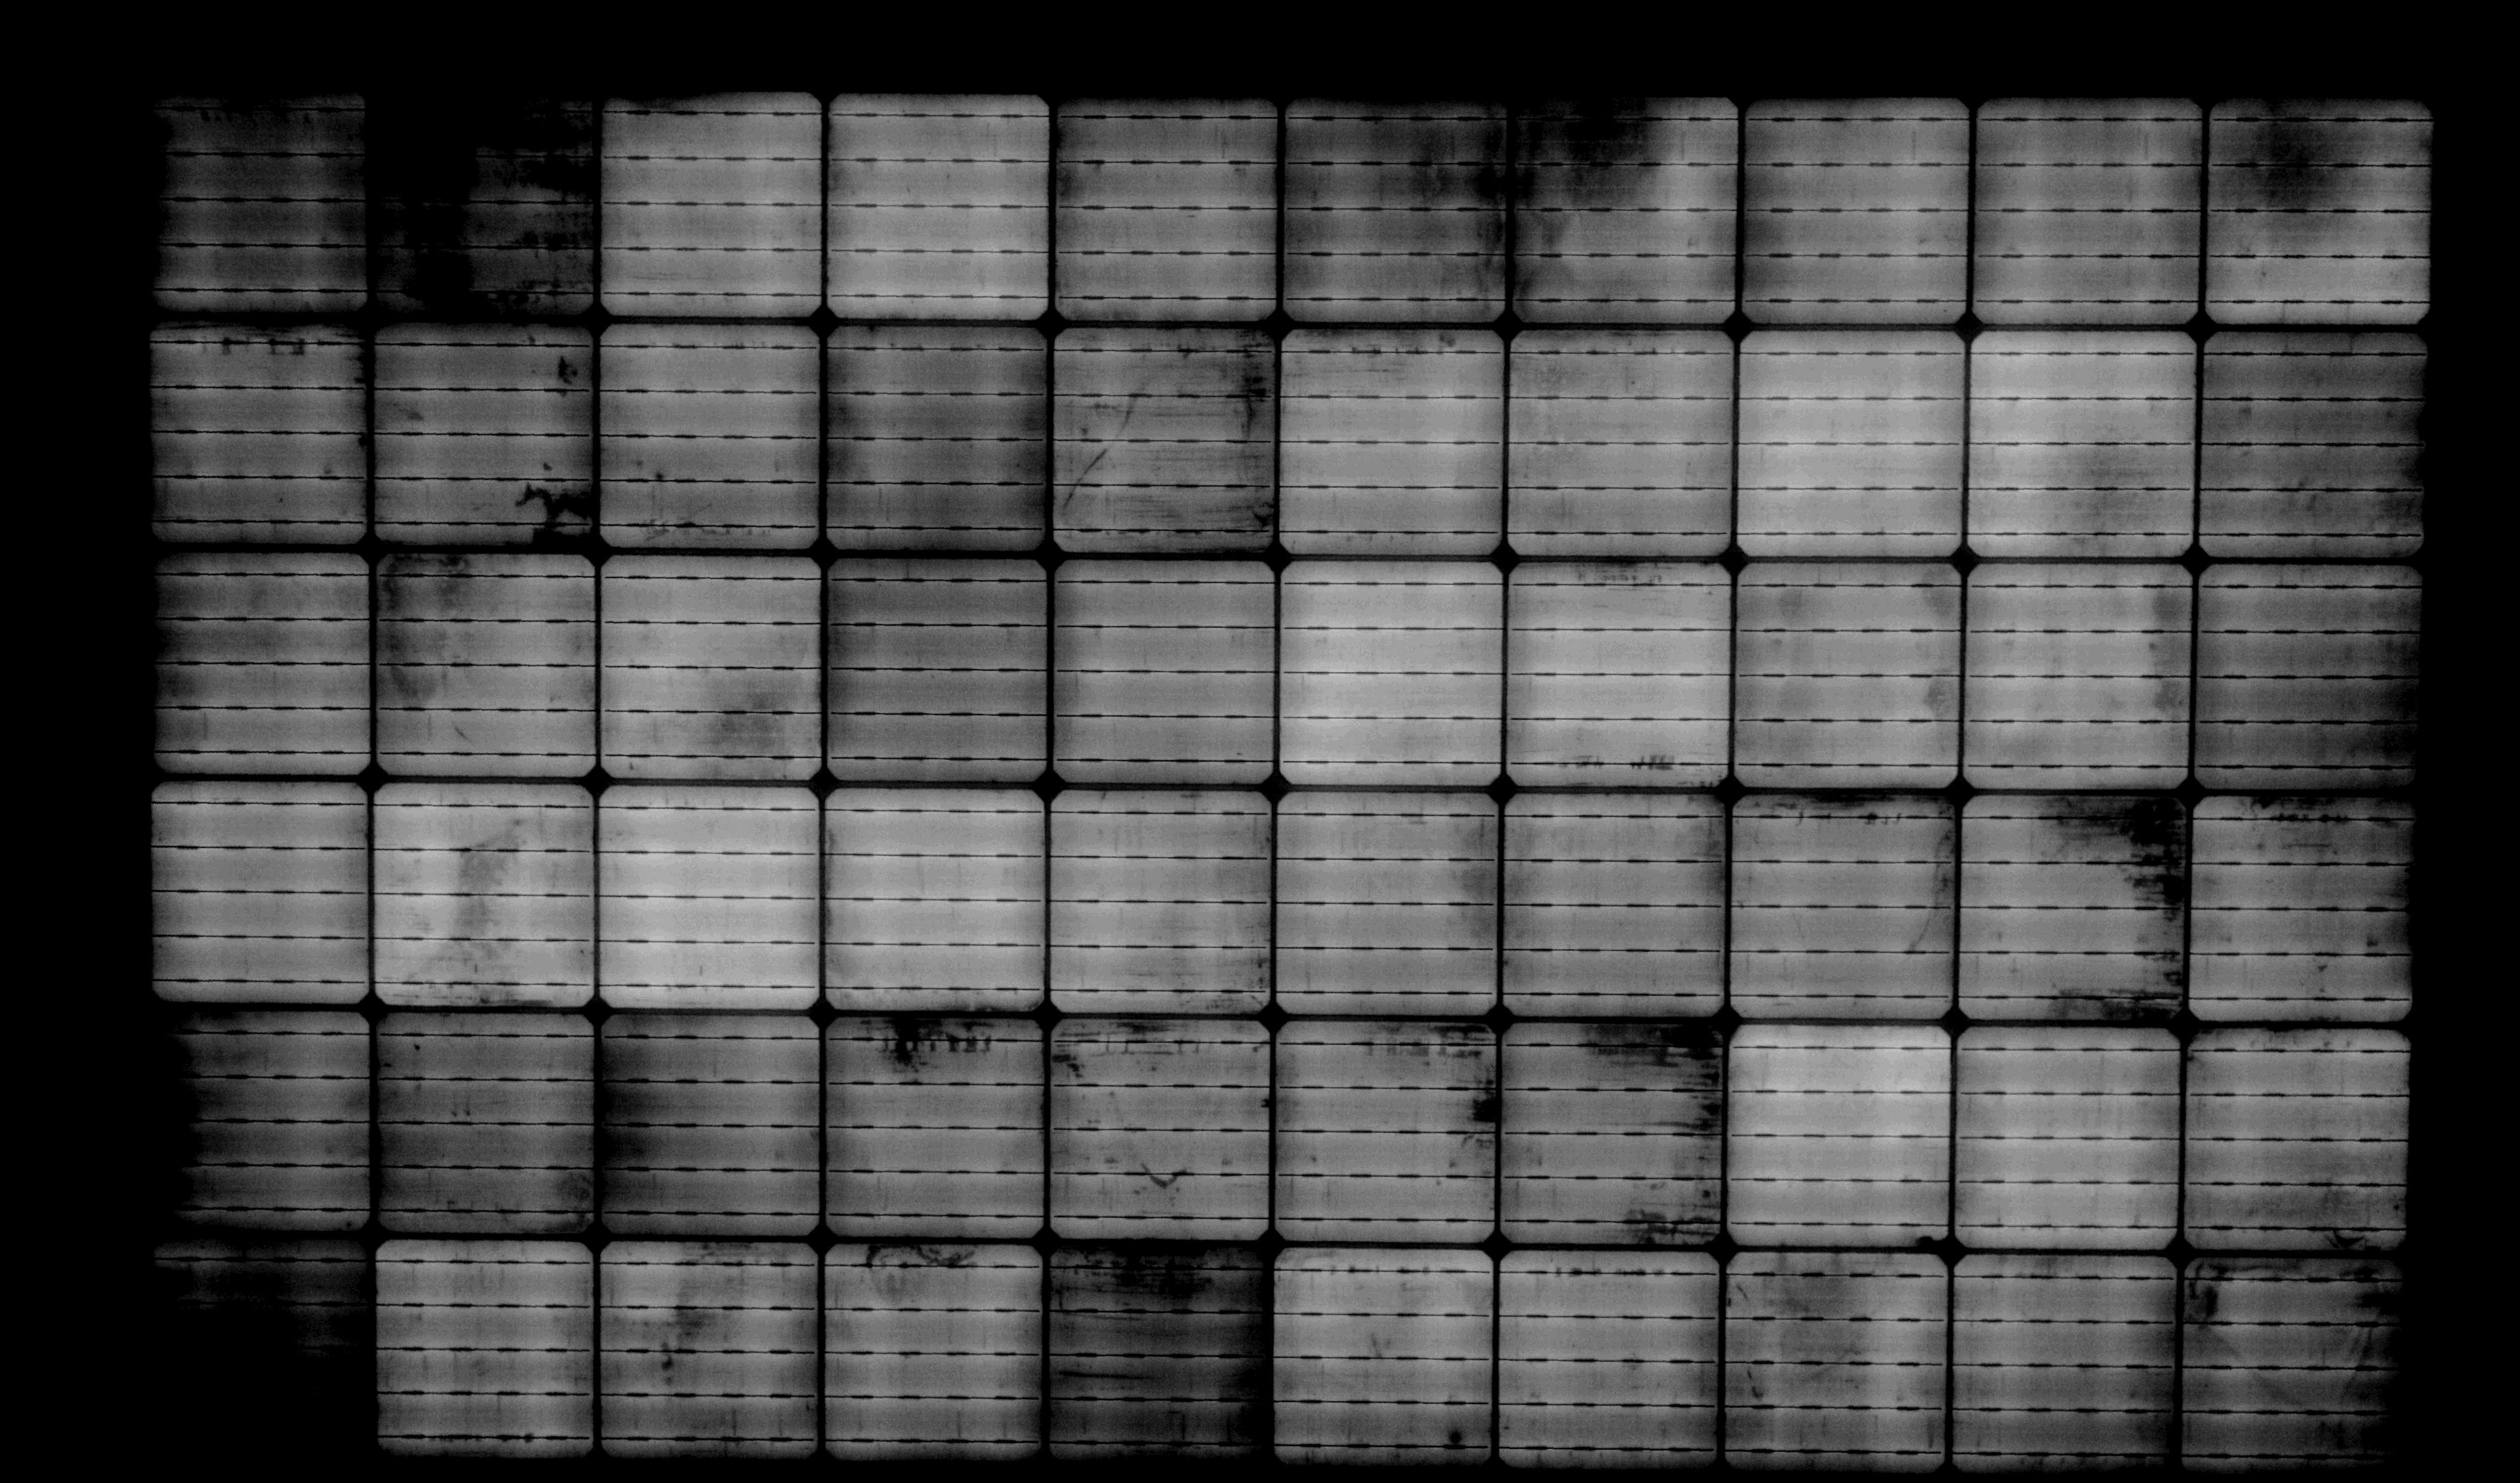5,9: (131, 76, 388, 334), (136, 1215, 394, 1472), (2190, 81, 2446, 339)
